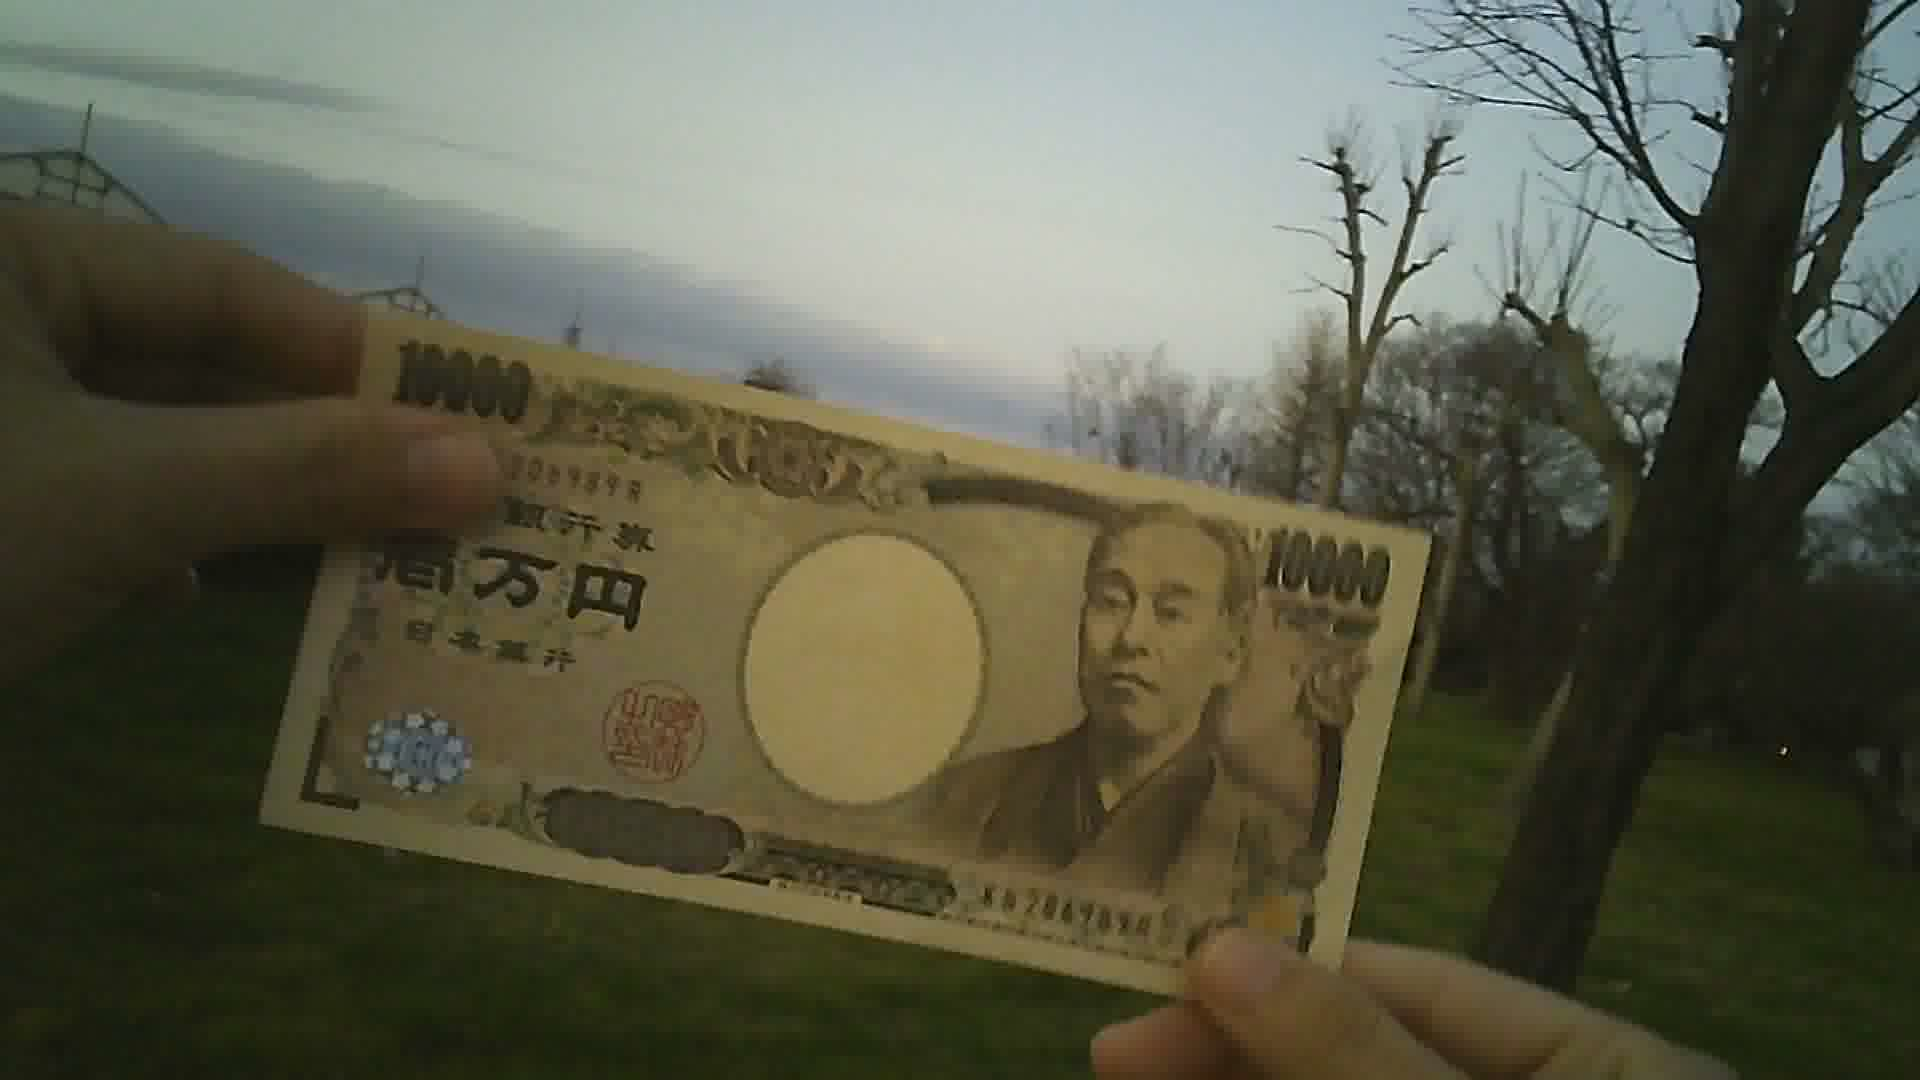10,000 Yen: (218, 273, 1435, 1030)
